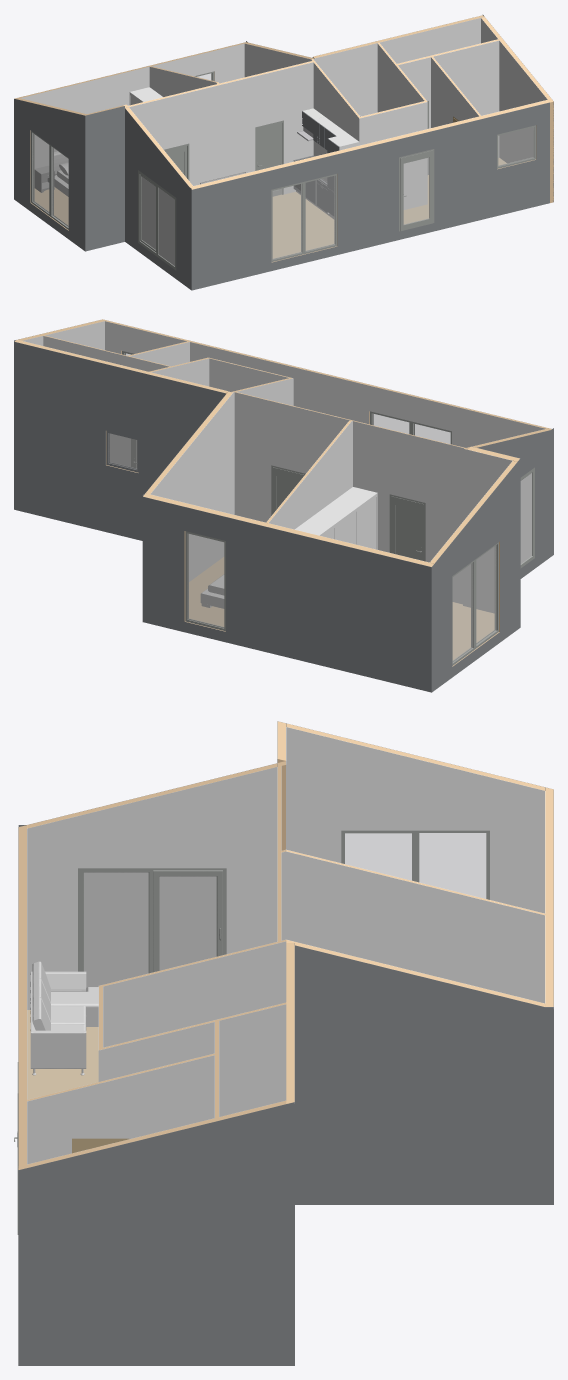
File: Antanas_(Besta11)_R02.fbx
The picture shows the model from 3 angles, top to bottom: view 1: azimuth 30°, elevation 25°; view 2: azimuth 150°, elevation 25°; view 3: azimuth 270°, elevation 25°; orthographic projection. The views are drawn at different scales.
Parts seen in each view (by area): view 1: IfcWall/Part:2094238, IfcWall/Part:2054791, IfcWall/Part:2094955, IfcWall/Part:2054807, IfcWall/Part:2054824, IfcWall/Part:2094926, IfcWall/Part:2054810, IfcSlab/Part:2054827, IfcWall/Part:2054774, IfcWall/Part:2054779, IfcWall/Part:2094938, IfcDoor/Stumdomos durys:Sliding door:2006738 (+27 smaller); view 2: IfcWall/Part:2054825, IfcWall/Part:2094927, IfcWall/Part:2094237, IfcWall/Part:2054793, IfcWall/Part:2094955, IfcWall/Part:2054792, IfcWall/Part:2054821, IfcWindow/Langai:2100 x 1000 (varstomas, kairinis):2036476, IfcWall/Part:2054810, IfcWall/Part:2054800, IfcWall/Part:2094763, IfcSlab/Part:2054827 (+22 smaller); view 3: IfcWall/Part:2094939, IfcWall/Part:2054822, IfcWall/Part:2054809, IfcWall/Part:2094954, IfcWall/Part:2054801, IfcDoor/Stumdomos durys:Sliding door:2006738, IfcWall/Part:2054781, IfcWall/Part:2054785, IfcWall/Part:2054796, IfcFurnishingElement/059_Enzo_Modular_Sof:059_Enzo_Modular_S, IfcWindow/Langai:2100 x 1000 (varstomas, dešininis):2092426, IfcWall/Part:2054795 (+11 smaller).
Boxes of the visible parts, <box> form: IfcWall/Part:2094238: <box>191,102,553,290</box>; IfcWall/Part:2054791: <box>129,62,313,194</box>; IfcWall/Part:2094955: <box>14,98,85,250</box>; IfcWall/Part:2054807: <box>85,106,126,251</box>; IfcWall/Part:2054824: <box>21,43,244,168</box>; IfcWall/Part:2094926: <box>313,17,484,116</box>; IfcWall/Part:2054810: <box>125,108,191,290</box>; IfcSlab/Part:2054827: <box>34,158,506,258</box>; IfcWall/Part:2054774: <box>433,40,499,157</box>; IfcWall/Part:2054779: <box>359,102,427,209</box>; IfcWall/Part:2094938: <box>481,18,547,163</box>; IfcDoor/Stumdomos durys:Sliding door:2006738: <box>138,170,176,270</box>; IfcWall/Part:2054825: <box>142,496,431,692</box>; IfcWall/Part:2094927: <box>14,341,225,540</box>; IfcWall/Part:2094237: <box>105,321,545,447</box>; IfcWall/Part:2054793: <box>353,421,463,604</box>; IfcWall/Part:2094955: <box>432,458,520,692</box>; IfcWall/Part:2054792: <box>234,392,350,522</box>; IfcWall/Part:2054821: <box>150,393,233,581</box>; IfcWindow/Langai:2100 x 1000 (varstomas, kairinis):2036476: <box>185,531,225,631</box>; IfcWall/Part:2054810: <box>477,428,553,578</box>; IfcWall/Part:2054800: <box>268,421,352,529</box>; IfcWall/Part:2094763: <box>463,448,512,613</box>; IfcSlab/Part:2054827: <box>189,557,494,659</box>; IfcWall/Part:2094939: <box>18,1102,294,1365</box>; IfcWall/Part:2054822: <box>295,945,553,1204</box>; IfcWall/Part:2054809: <box>27,767,277,1009</box>; IfcWall/Part:2094954: <box>286,727,544,913</box>; IfcWall/Part:2054801: <box>281,851,544,1003</box>; IfcDoor/Stumdomos durys:Sliding door:2006738: <box>78,868,226,991</box>; IfcWall/Part:2054781: <box>27,1055,214,1164</box>; IfcWall/Part:2054785: <box>103,941,286,1047</box>; IfcWall/Part:2054796: <box>219,1004,286,1116</box>; IfcFurnishingElement/059_Enzo_Modular_Sof:059_Enzo_Modular_S: <box>30,961,98,1075</box>; IfcWindow/Langai:2100 x 1000 (varstomas, dešininis):2092426: <box>416,830,489,899</box>; IfcWall/Part:2054795: <box>98,1022,214,1081</box>.
Bounding box in the file's own units: 1212 × 391 × 726.
